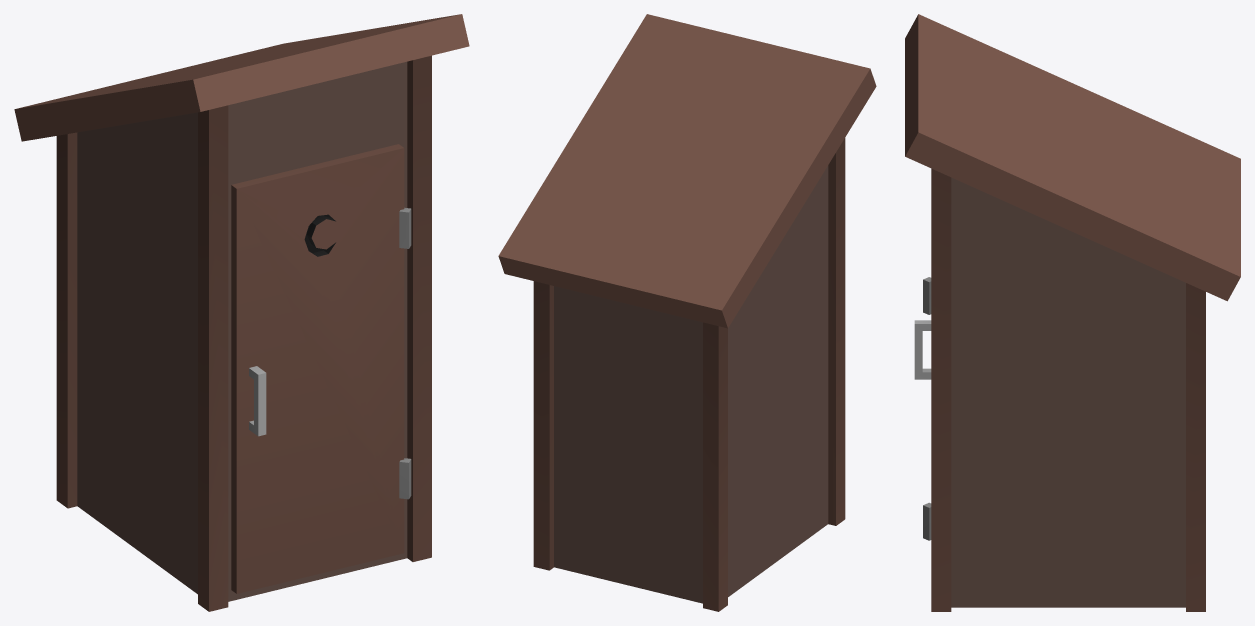
The model's file is toilet_001.glb.
The picture shows the model from 3 angles, left to right: view 1: azimuth 30°, elevation 25°; view 2: azimuth 150°, elevation 25°; view 3: azimuth 270°, elevation 25°; orthographic projection. The views are drawn at different scales.
Visible parts, largest first — view 1: toilet_001; view 2: toilet_001; view 3: toilet_001.
Boxes of the visible parts, left/top/right/bottom form: toilet_001: left=14, top=14, right=469, bottom=611; toilet_001: left=498, top=14, right=876, bottom=611; toilet_001: left=905, top=14, right=1240, bottom=611.
Bounding box in the file's own units: 1.35 × 2.6 × 1.61.
Materials: 1 (1 with a texture image).
